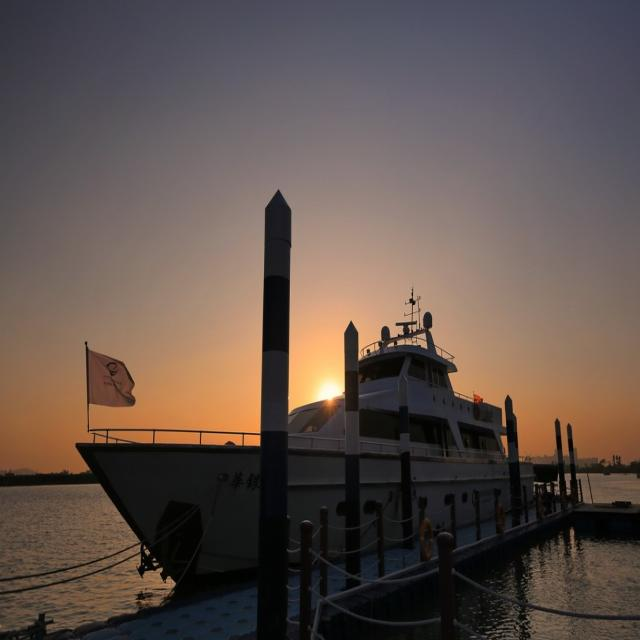houseboat: (66, 300, 542, 578)
